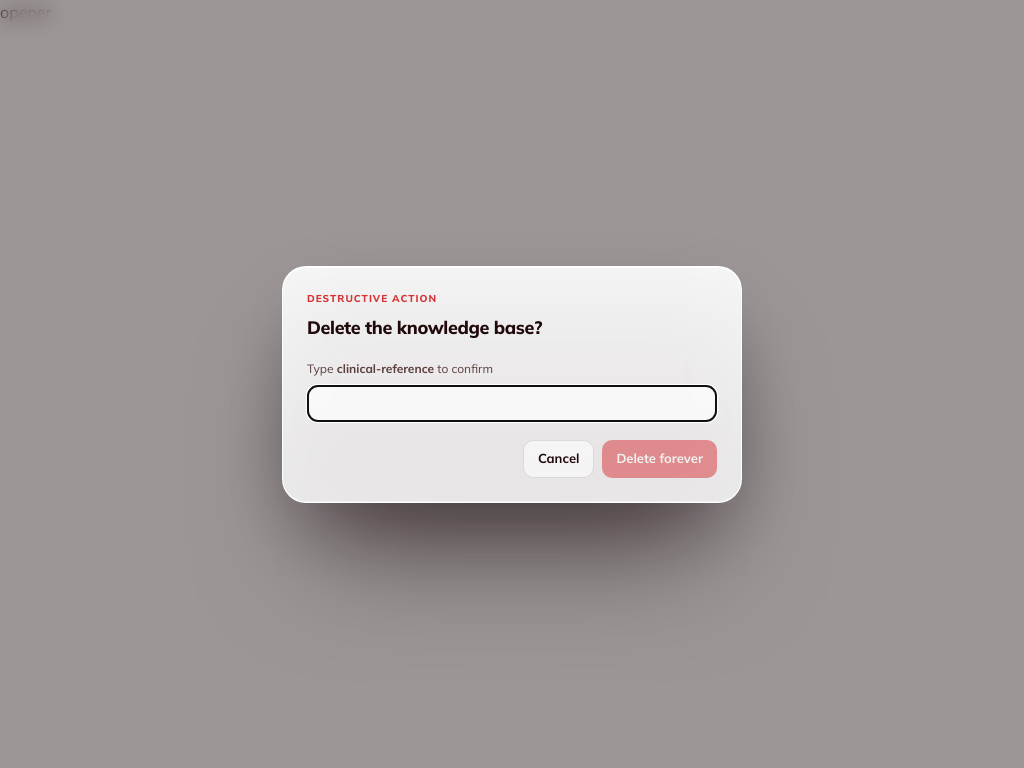
typeToConfirm › keeps the confirm button disabled until the phrase matches exactly
This screenshot has width=1024, height=768.
Expected: the button "Delete forever" is disabled, [602,440,717,478]
Type "clinical-refer" into the field labelled "Type clinical-reference to confirm" at coordinates (512, 403), box [307,384,717,422]
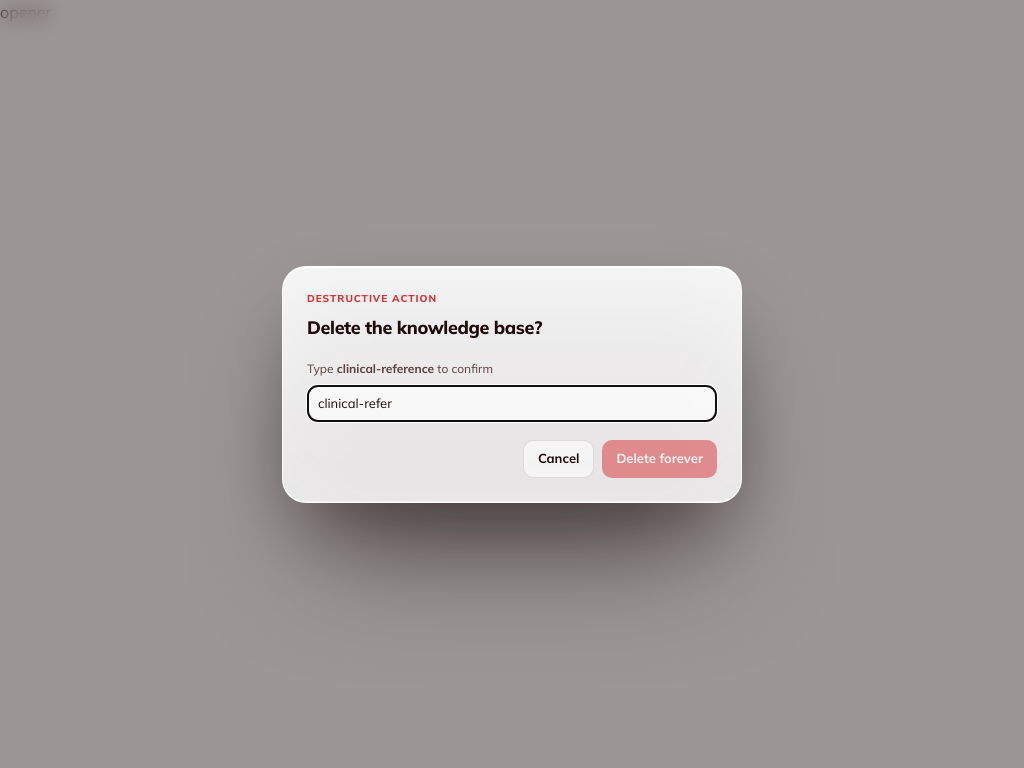
Expected: the button "Delete forever" is disabled, [602,440,717,478]
Type "ence" into the field labelled "Type clinical-reference to confirm" at coordinates (512, 403), box [307,384,717,422]
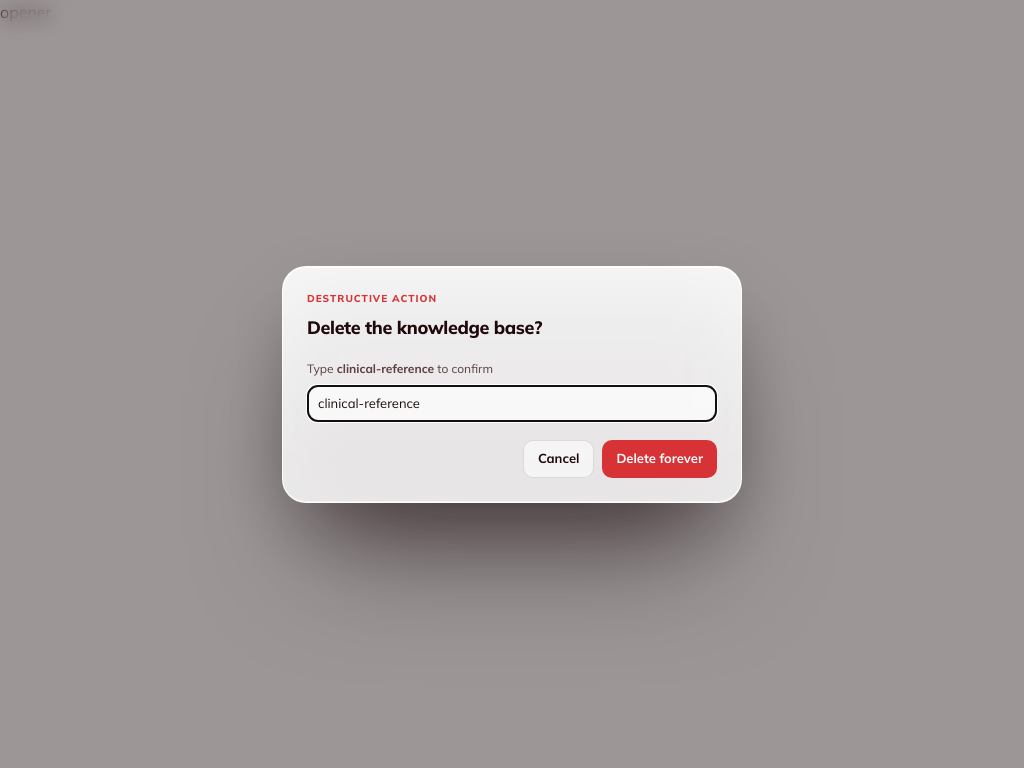
Expected: the button "Delete forever" is enabled, [602,440,717,478]
